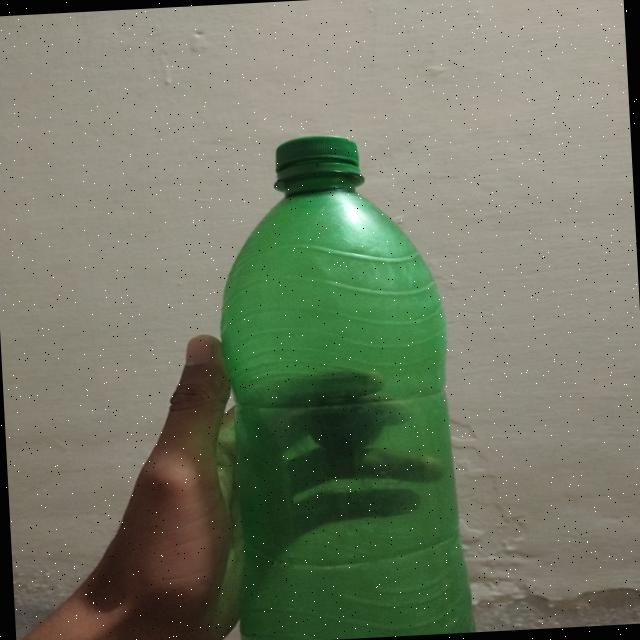bottle: (205, 128, 478, 640)
cap: (274, 134, 358, 179)
